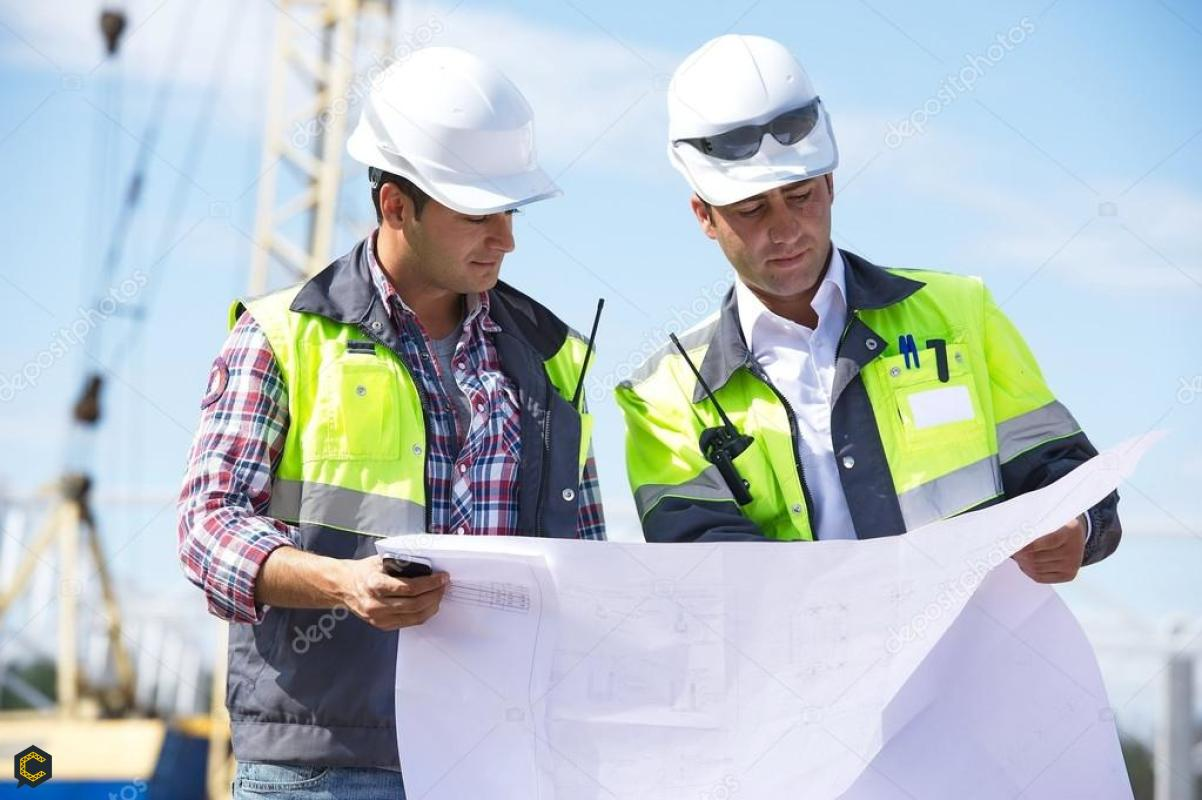casco: (340, 40, 569, 221), (661, 28, 844, 211)
